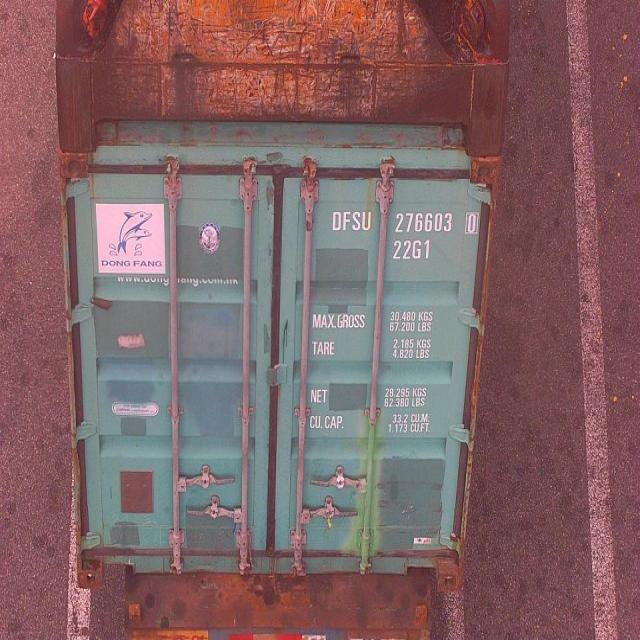ISO: (396, 240, 434, 260)
container_number: (331, 210, 473, 236)
